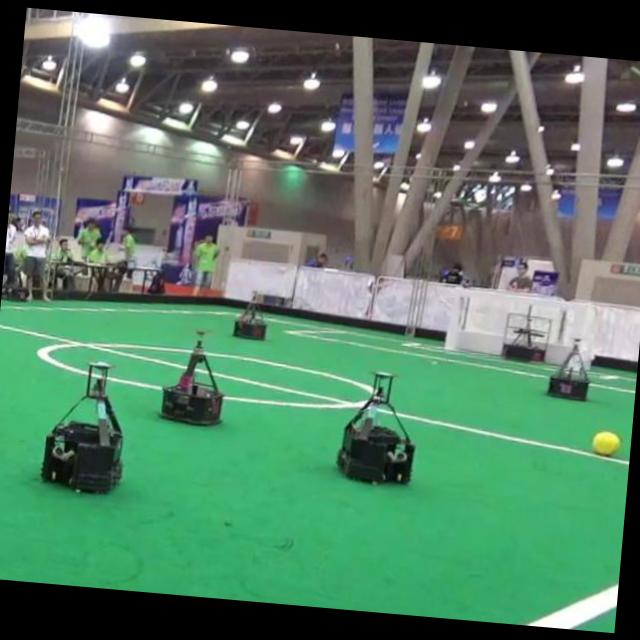ball: (591, 431, 621, 456)
goal: (444, 286, 461, 351)
robot: (41, 363, 122, 492), (337, 372, 413, 483), (160, 341, 221, 424), (501, 305, 551, 362), (547, 338, 587, 400), (232, 303, 266, 339)
